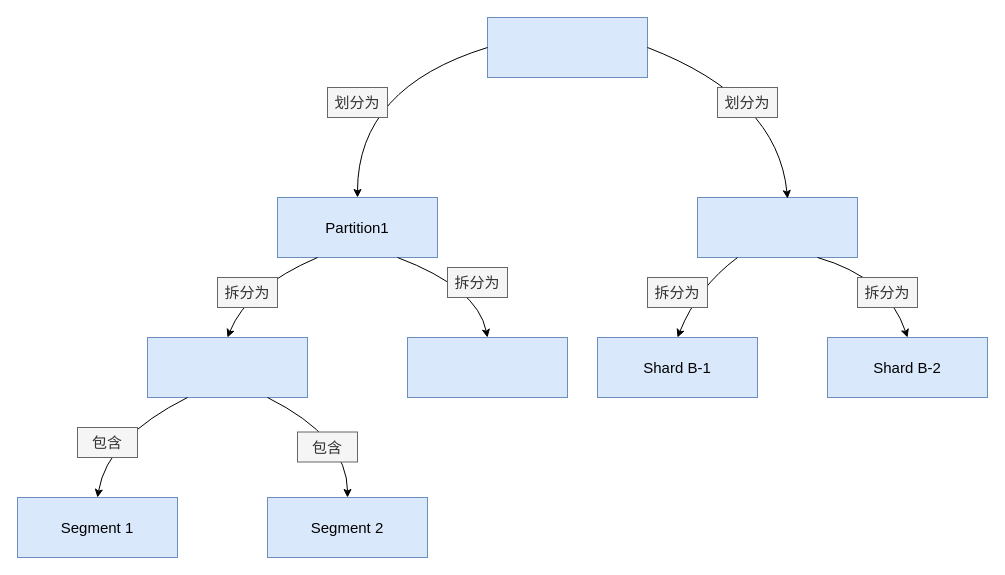
This 1005x575 diagram has some shape labels left out. Here are the shapes that lost their labels. From the top down, the centre of each, then its label:
the point at 567,47: Collection
the point at 777,227: Partition2
the point at 227,367: Shard A-1
the point at 487,367: Shard A-2
